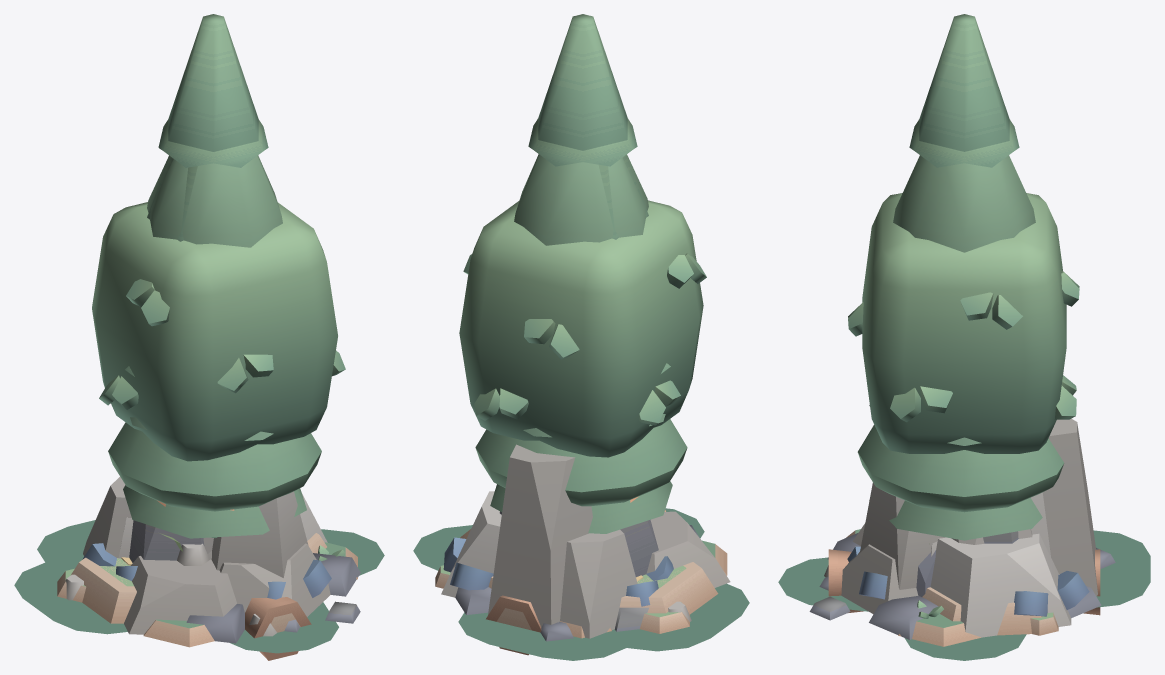
File: nature.glb
3 renders of one model, left to right at view 1: azimuth 30°, elevation 25°; view 2: azimuth 150°, elevation 25°; view 3: azimuth 270°, elevation 25°, orthographic.
Parts seen in each view (by area): view 1: tree (×2), rock-large, tree-pine, tree-tall, tree-high-round, patch-grass, rock-flat-grass, rock-wide, stones, tree-log, rock-a, flowers; view 2: tree (×2), rock-large, rock-wide, tree-tall, tree-high-round, patch-grass, tree-pine, rock-flat-grass, flowers, stones, tree-log, rock-a; view 3: tree (×2), rock-large, tree-tall, tree-pine, tree-high-round, rock-wide, patch-grass, rock-flat-grass, stones, flowers, tree-log, rocks (+1 smaller).
Boxes of the visible parts, <box> form: tree (×2): <box>92,202,345,538</box>; rock-large: <box>65,476,327,636</box>; tree-pine: <box>108,422,321,511</box>; tree-tall: <box>125,14,268,376</box>; tree-high-round: <box>147,155,282,247</box>; patch-grass: <box>14,520,384,653</box>; rock-flat-grass: <box>57,533,357,647</box>; rock-wide: <box>118,517,330,616</box>; stones: <box>186,553,360,643</box>; tree-log: <box>245,597,311,660</box>; rock-a: <box>129,520,204,562</box>; flowers: <box>82,543,331,599</box>; tree (×2): <box>459,200,706,533</box>; rock-large: <box>441,491,730,638</box>; rock-wide: <box>488,444,592,627</box>; tree-tall: <box>528,14,670,373</box>; tree-high-round: <box>514,154,648,245</box>; patch-grass: <box>413,508,749,660</box>; tree-pine: <box>475,419,687,506</box>; rock-flat-grass: <box>435,529,727,638</box>; flowers: <box>443,537,673,606</box>; stones: <box>455,525,700,641</box>; tree-log: <box>486,510,665,655</box>; rock-a: <box>620,519,658,577</box>; tree (×2): <box>848,193,1079,540</box>; rock-large: <box>824,483,1071,637</box>; tree-tall: <box>909,14,1019,167</box>; tree-pine: <box>857,425,1064,512</box>; tree-high-round: <box>893,155,1035,252</box>; rock-wide: <box>841,418,1097,614</box>; patch-grass: <box>778,530,1150,660</box>; rock-flat-grass: <box>846,529,1059,646</box>; stones: <box>809,533,1115,639</box>; flowers: <box>847,546,1089,616</box>; tree-log: <box>828,549,1100,615</box>; rocks: <box>916,531,1018,596</box>.
Bounding box in the file's own units: 4.8 × 8.37 × 4.8.
12 materials, 3 textured.
